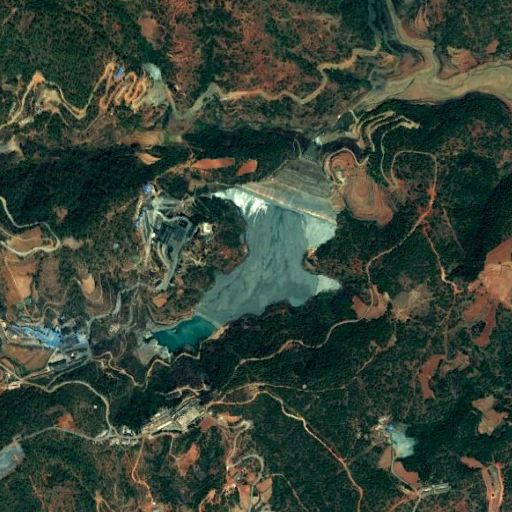tp: (141, 142, 346, 356)
